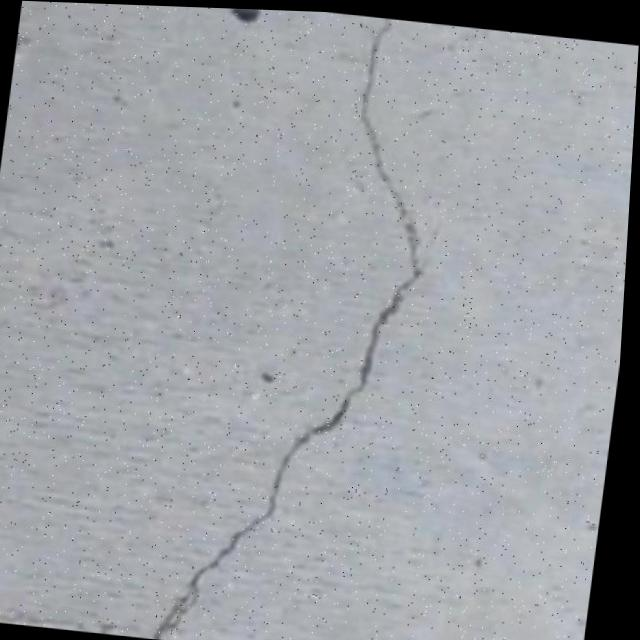Crack: (148, 5, 472, 640)
